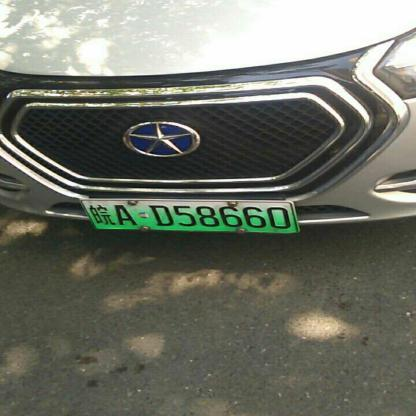lp: (81, 200, 296, 231)
